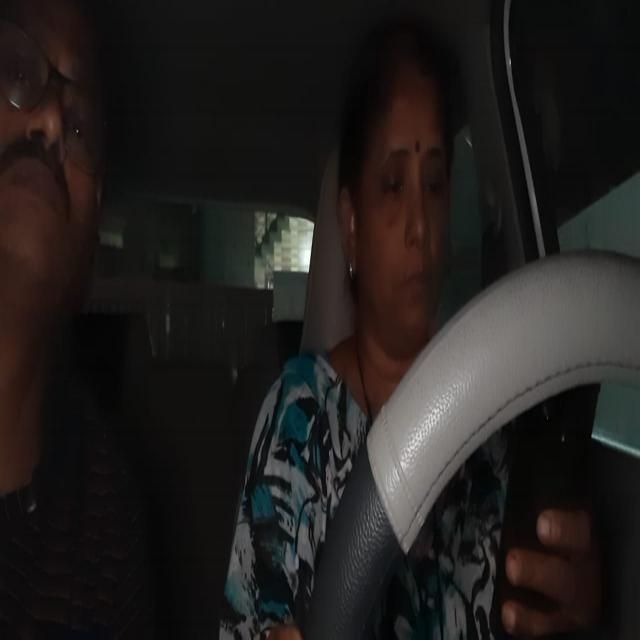mobile: (516, 416, 585, 618)
person: (4, 4, 106, 312), (345, 64, 451, 327)
